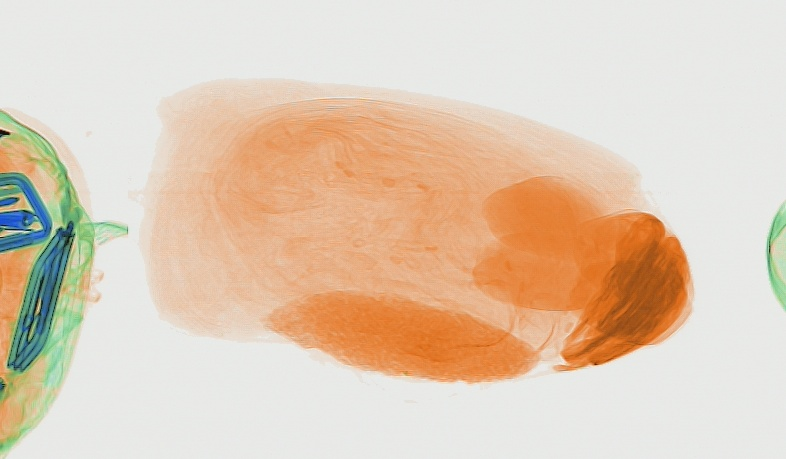scissors: (14, 269, 45, 357)
